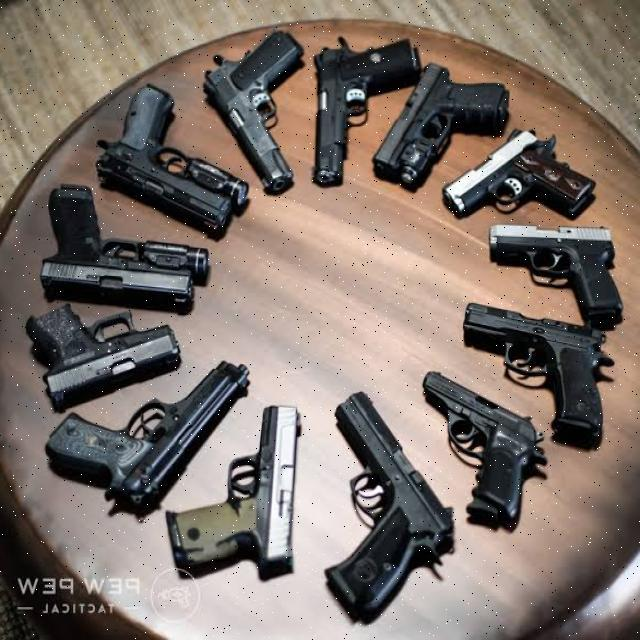gun: (37, 355, 266, 515), (329, 385, 470, 623), (79, 81, 265, 247), (21, 173, 215, 322), (158, 400, 305, 590), (456, 296, 624, 462), (408, 352, 551, 531), (191, 24, 309, 209), (365, 56, 516, 195), (17, 298, 186, 422), (426, 117, 600, 229), (304, 36, 424, 192), (484, 216, 628, 331)
